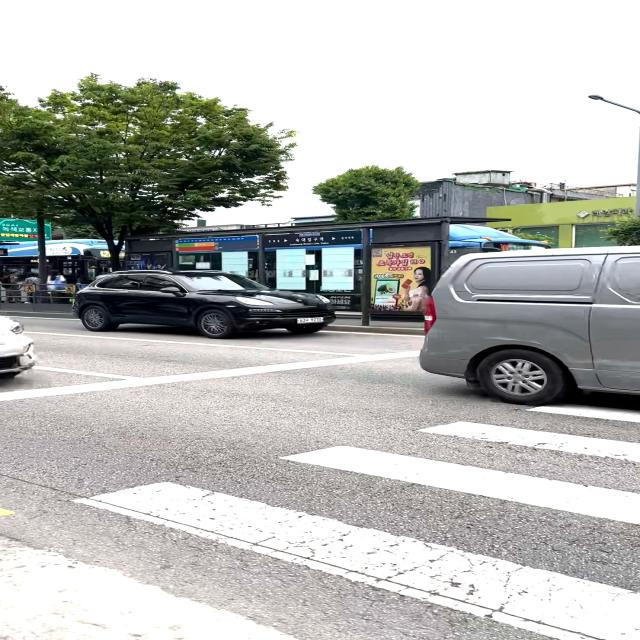building: (471, 190, 640, 241)
car: (70, 268, 337, 338), (0, 314, 37, 378)
